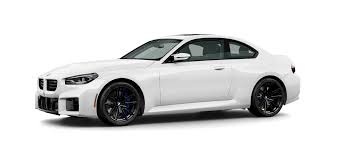car: (36, 31, 306, 134)
